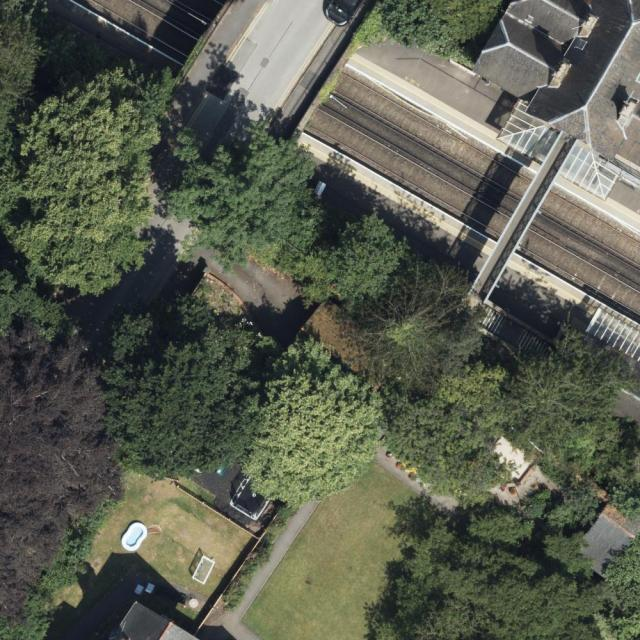roof: (472, 1, 640, 200), (576, 496, 640, 580), (117, 601, 205, 640)
skylight: (496, 98, 563, 165), (558, 144, 626, 202), (589, 307, 640, 364), (573, 37, 589, 51)
